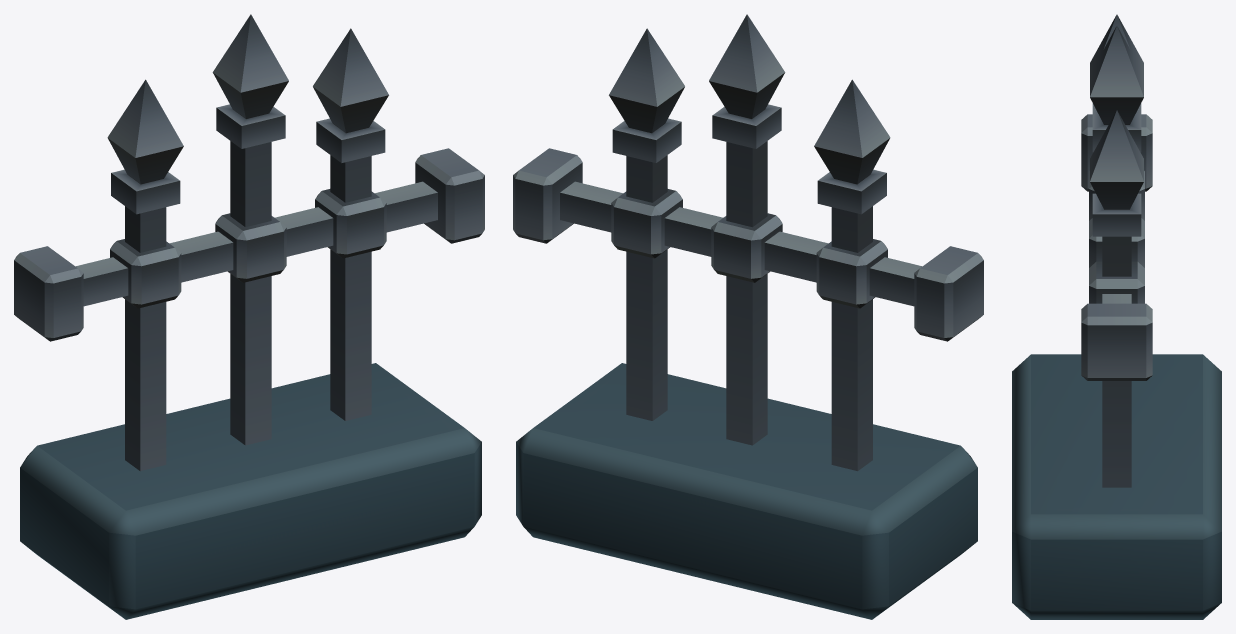
Rendered from fence_element_2.fbx.
3 renders of one model, left to right at view 1: azimuth 30°, elevation 25°; view 2: azimuth 150°, elevation 25°; view 3: azimuth 270°, elevation 25°, orthographic. The views are drawn at different scales.
Parts seen in each view (by area): view 1: fence_element_2; view 2: fence_element_2; view 3: fence_element_2.
Boxes of the visible parts, bbox=[...] form: fence_element_2: bbox=[14, 14, 484, 619]; fence_element_2: bbox=[513, 14, 983, 619]; fence_element_2: bbox=[1012, 14, 1221, 619].
Size of the model in its own units: 155 by 179 by 66.3.
